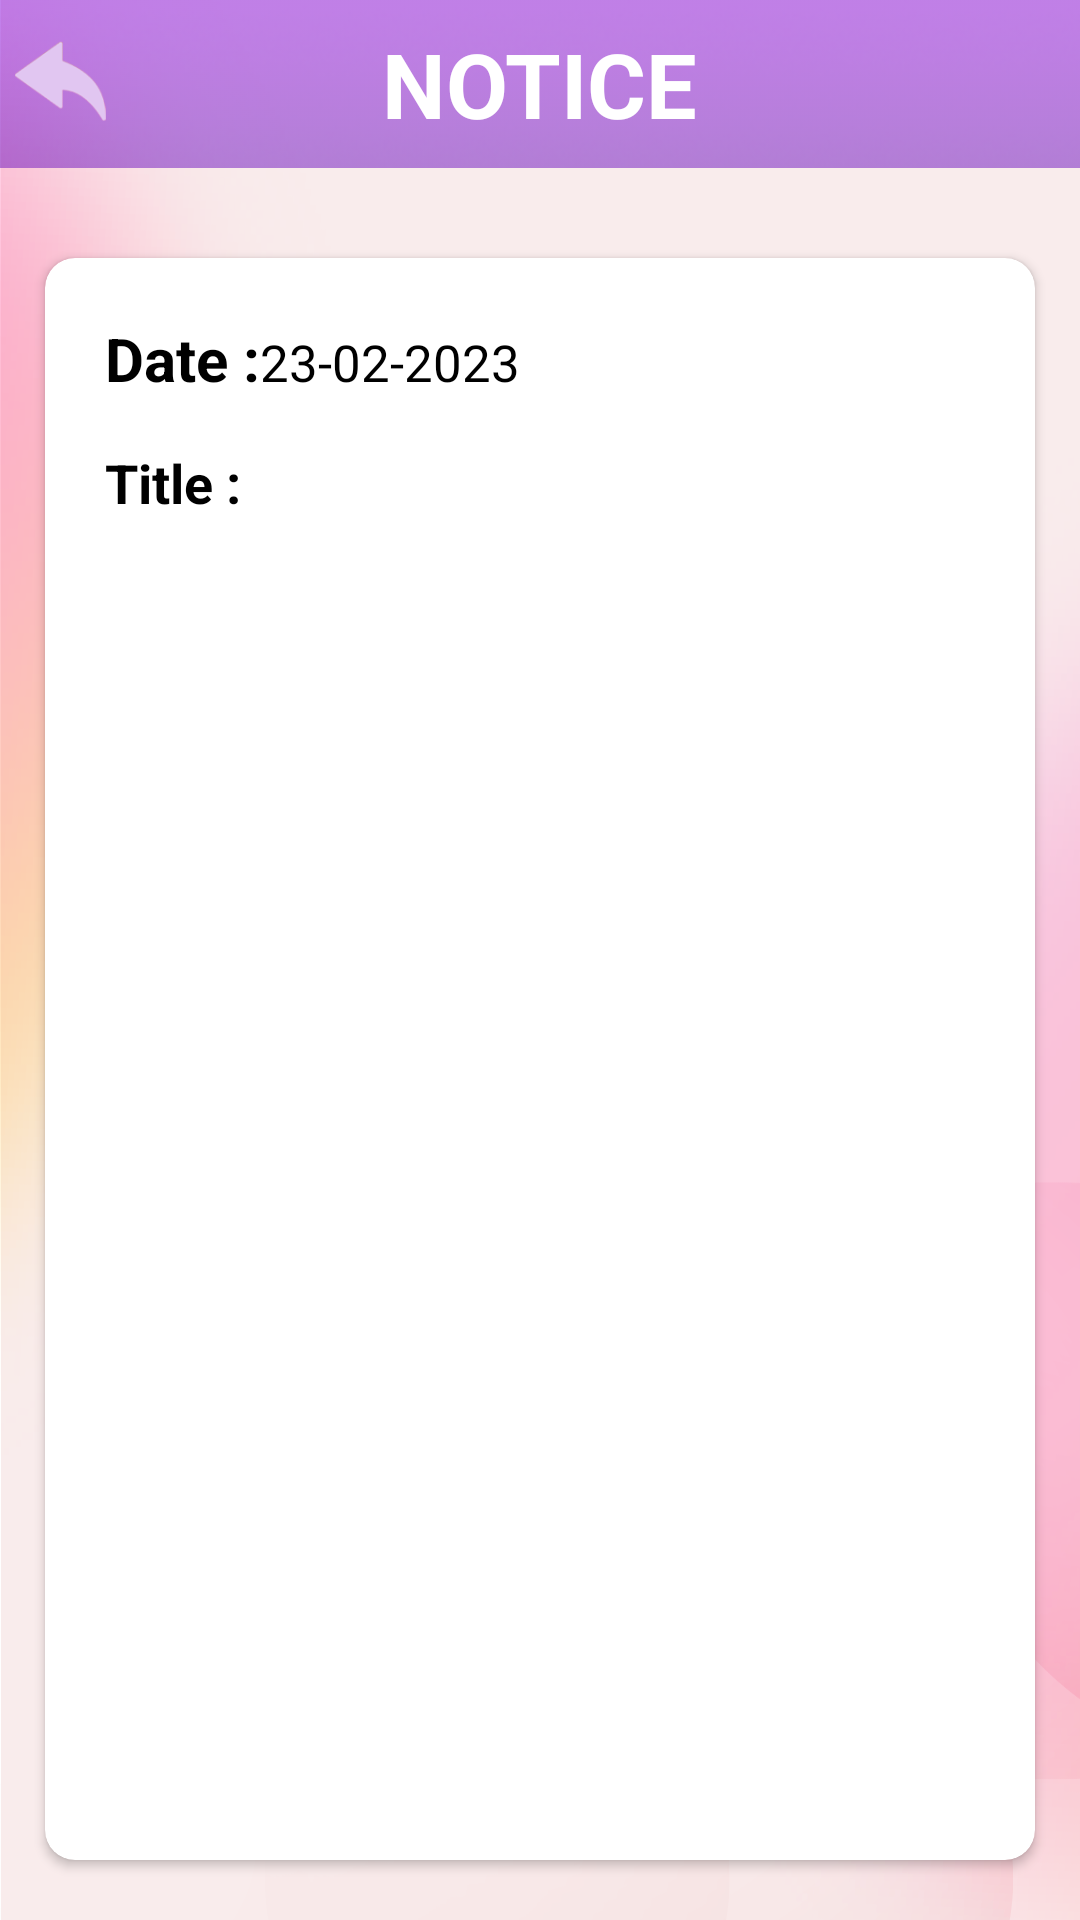

Named icons in this screenshot (1080 x 1920) and their centers, [x,y]:
undo: [60,92]
